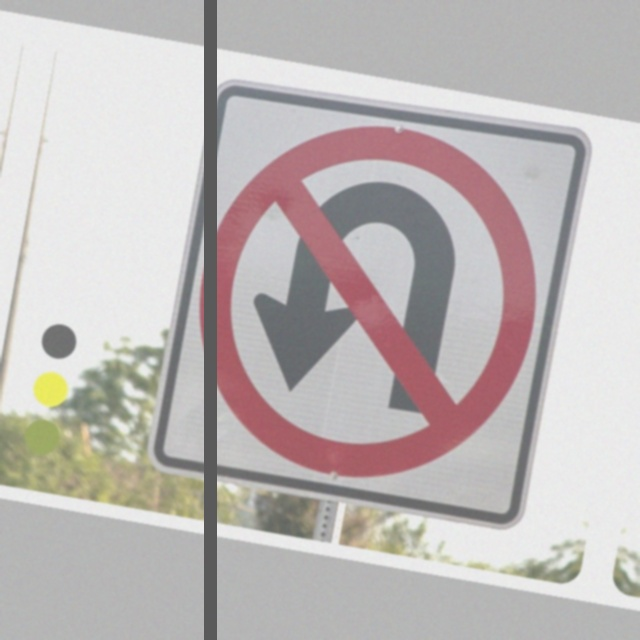U_Turn_Prohibited: (172, 94, 574, 514)
